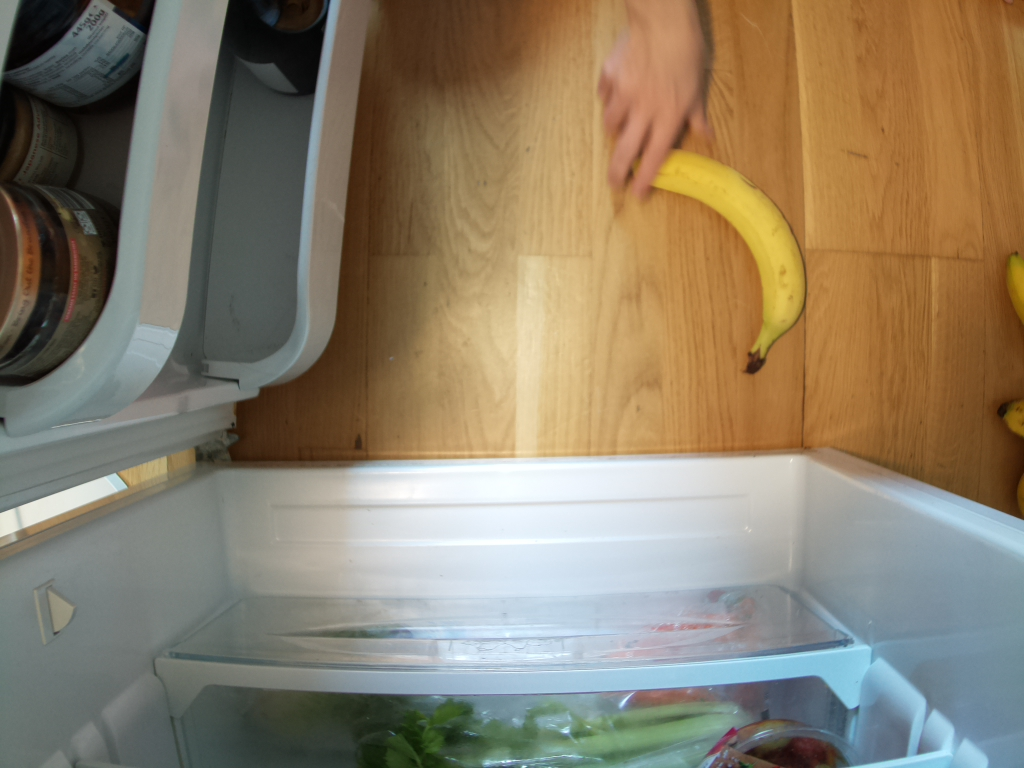banana: (652, 147, 810, 375)
